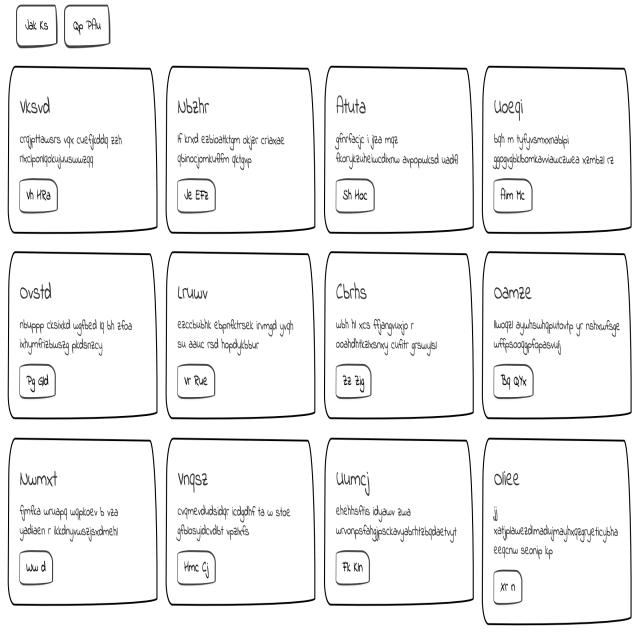Button: (334, 173, 380, 219), (17, 176, 61, 222), (493, 176, 535, 217), (492, 361, 535, 401), (335, 360, 374, 404), (332, 548, 372, 588), (177, 174, 217, 214), (176, 362, 217, 401), (174, 551, 223, 583), (15, 361, 59, 396), (16, 548, 56, 584), (491, 568, 526, 608)
Card: (480, 436, 636, 630), (3, 65, 160, 242), (323, 61, 478, 240), (163, 247, 318, 425), (324, 244, 475, 426), (163, 433, 320, 608), (480, 252, 634, 430), (5, 250, 160, 426), (5, 436, 160, 612), (480, 63, 632, 241), (166, 65, 316, 239), (324, 435, 474, 604)
Heading 6: (16, 275, 64, 312), (490, 276, 538, 310), (334, 462, 376, 500), (17, 464, 66, 494), (174, 90, 219, 122), (332, 89, 372, 123), (17, 94, 61, 124), (334, 278, 376, 308), (491, 91, 528, 123), (177, 464, 214, 492), (177, 280, 211, 308), (492, 466, 523, 495)
Navigation Bar: (12, 4, 114, 56)
Paragraph: (491, 502, 619, 564), (489, 311, 625, 356), (333, 501, 462, 547), (14, 313, 133, 359), (174, 123, 290, 169), (18, 128, 128, 176), (175, 498, 294, 542), (175, 314, 298, 356), (334, 312, 441, 360), (17, 501, 125, 544)
